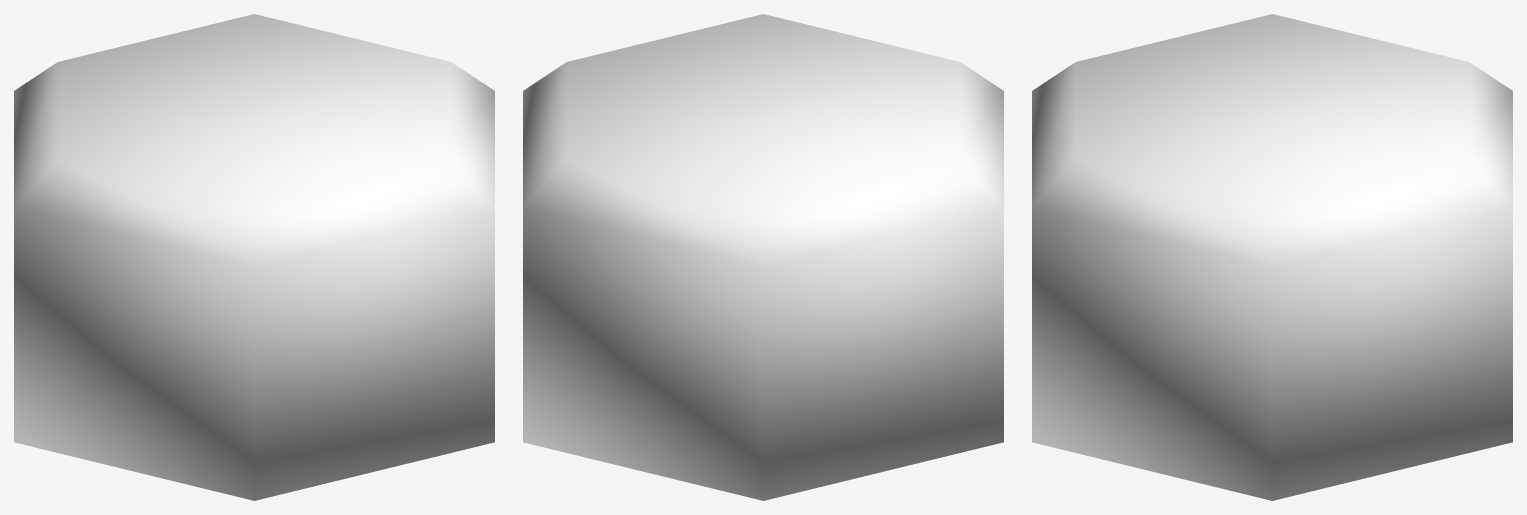
Rendered from Cake_C_05.FBX.
3 renders of one model, left to right at view 1: azimuth 30°, elevation 25°; view 2: azimuth 150°, elevation 25°; view 3: azimuth 270°, elevation 25°, orthographic.
Visible parts, largest first — view 1: Cake_D; view 2: Cake_D; view 3: Cake_D.
Part boxes in pixels (<box>): Cake_D: <box>14,14,494,500</box>; Cake_D: <box>523,14,1003,500</box>; Cake_D: <box>1032,14,1512,500</box>.
Bounding box in the file's own units: 102 × 55.58 × 88.51.
